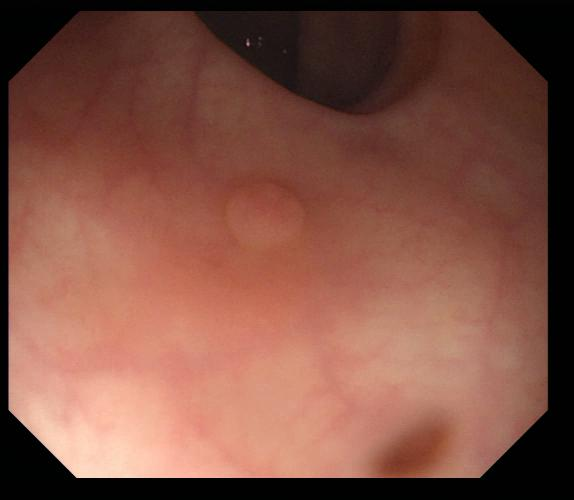polyp: (223, 179, 308, 252)
